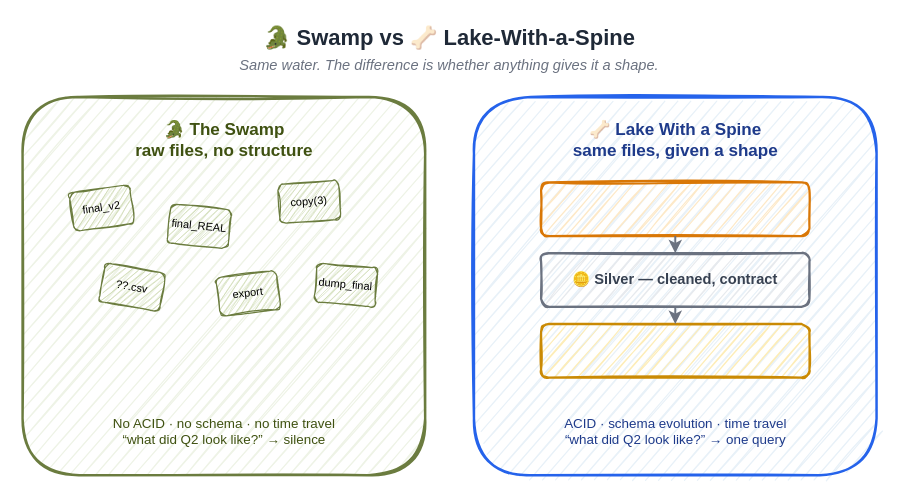
Some shapes in this 898 by 497 pixel diagram are drawn without their labels. Here are the shapes that lost their labels. From the top down, the centre of each, then its label:
[674,209]: 🪨 Bronze — raw, immutable
[674,350]: 🏆 Gold — business-ready
